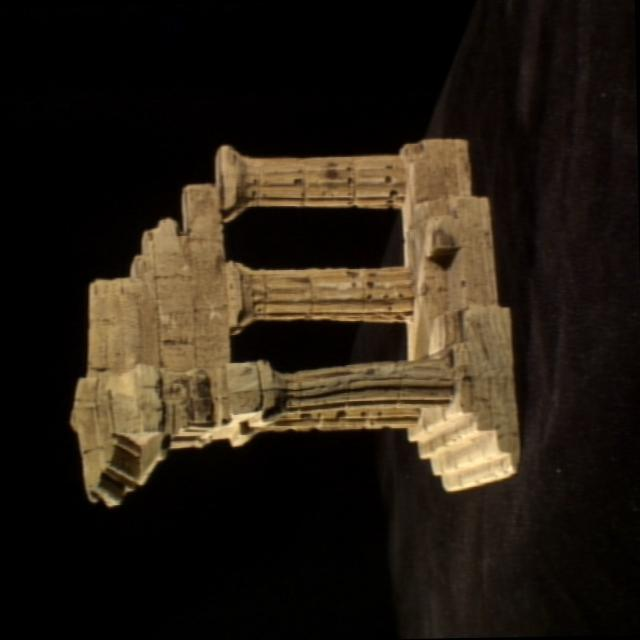Instance-Segmentation: (71, 139, 518, 505)
